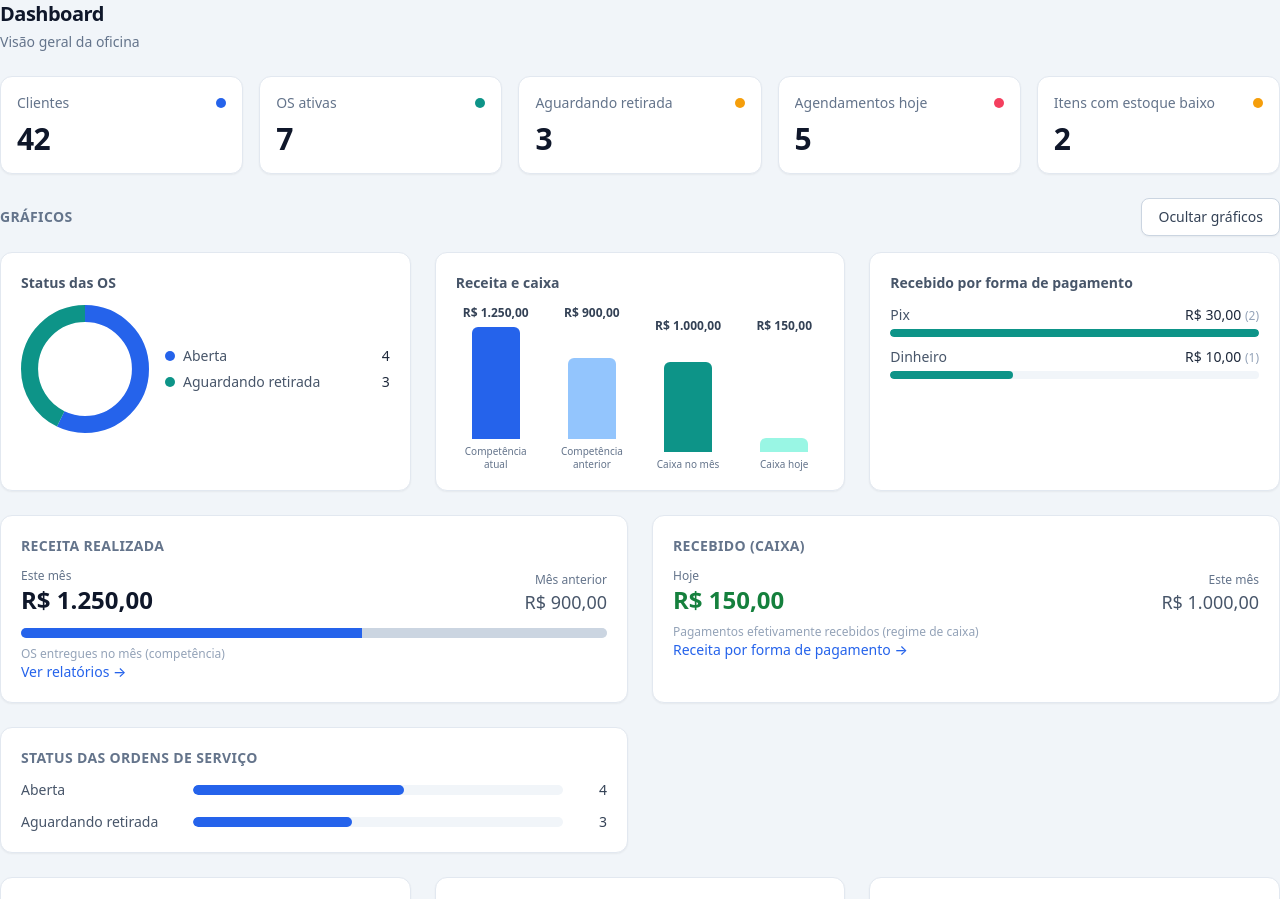
Scenario: DashboardPage › hides the charts when the user toggles them off and persists the choice
The image size is (1280, 899).
expect the heading "Dashboard" is shown: met, box [0,0,104,27]
Click the button "Ocultar gráficos".
click(1211, 217)  # box [1142,198,1279,236]
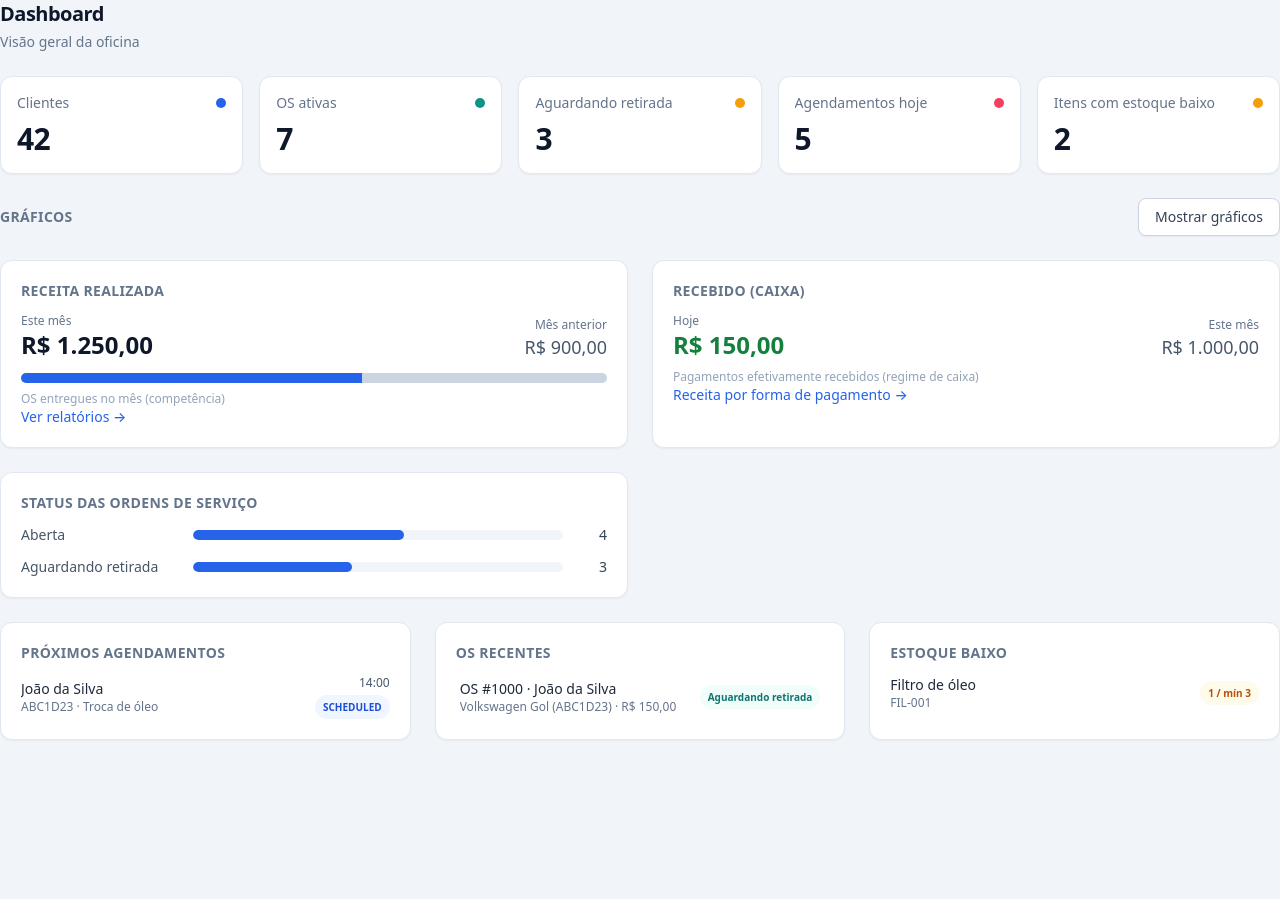
expect the element with test id "dashboard-charts" is gone: met
expect the button "Mostrar gráficos" is shown: met, box [1138,198,1279,236]
